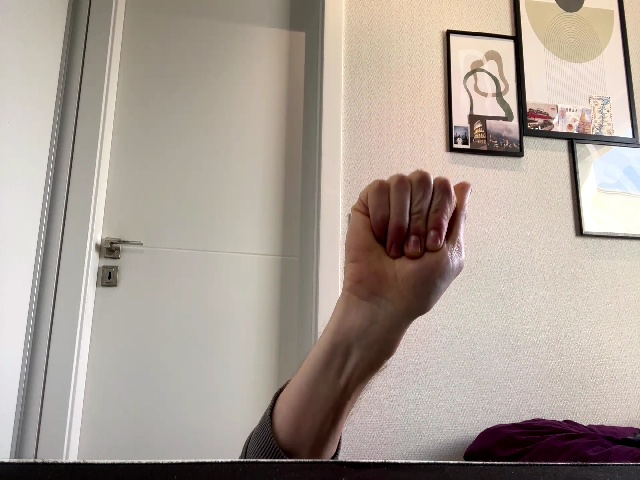A: (344, 170, 473, 324)
